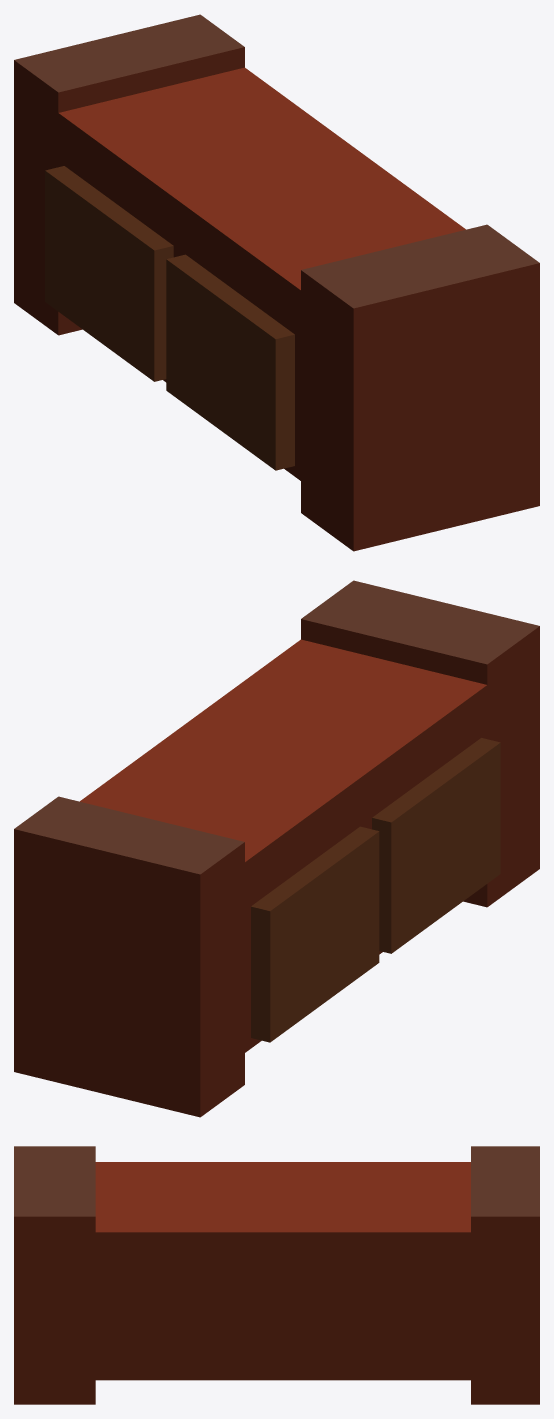
The model's file is TV_Cabinet.FBX.
The picture shows the model from 3 angles, top to bottom: view 1: azimuth 30°, elevation 25°; view 2: azimuth 150°, elevation 25°; view 3: azimuth 270°, elevation 25°; orthographic projection. The views are drawn at different scales.
Visible parts, largest first — view 1: tv cabinet; view 2: tv cabinet; view 3: tv cabinet.
Part boxes in pixels (bbox=[...]): tv cabinet: bbox=[14, 14, 539, 551]; tv cabinet: bbox=[14, 580, 539, 1117]; tv cabinet: bbox=[14, 1146, 539, 1404].
Bounding box in the file's own units: 0.3988 × 0.45 × 1.14.
